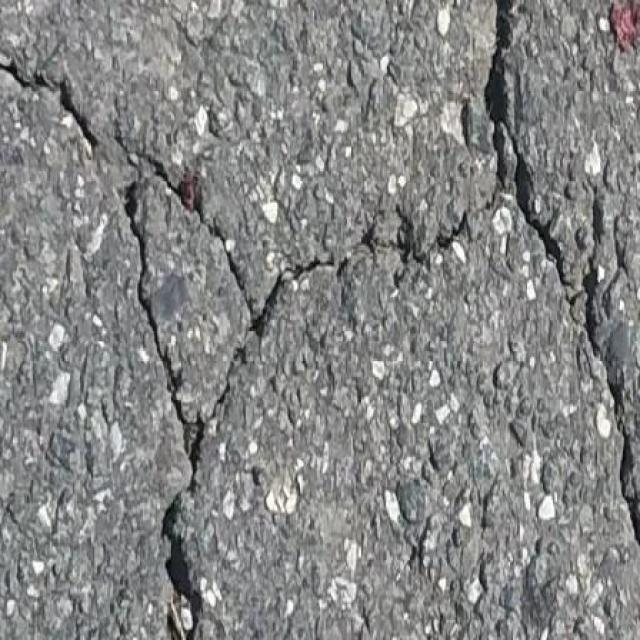Crack: (0, 34, 484, 640), (489, 0, 576, 289), (585, 186, 640, 549)
